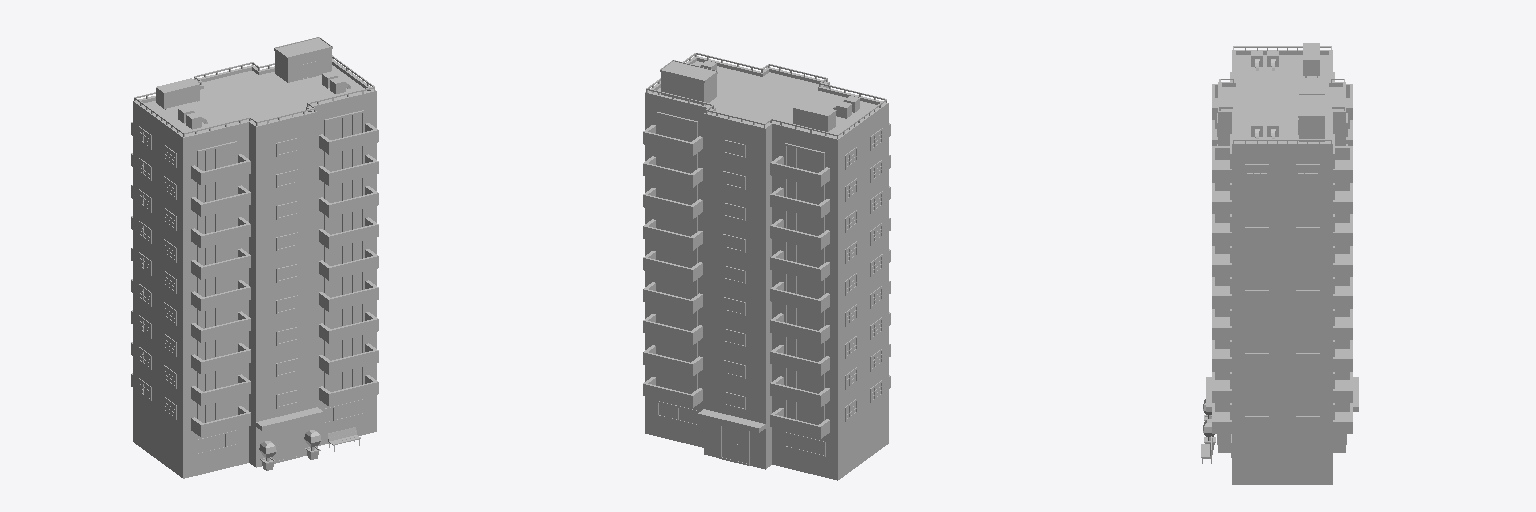
File: building.obj
3 views of the same model, side by side, from view 1: azimuth 30°, elevation 25°; view 2: azimuth 150°, elevation 25°; view 3: azimuth 270°, elevation 25° (orthographic).
Parts seen in each view (by area): view 1: Floor.001, Cube.003, Base; view 2: Floor.001, Cube.003, Base; view 3: Floor.001, Cube.003, Base.
Boxes of the visible parts, x1,y1,x2,y2 form: Floor.001: [131, 103, 378, 437]; Cube.003: [133, 37, 376, 149]; Base: [133, 395, 376, 478]; Floor.001: [643, 105, 890, 438]; Cube.003: [645, 53, 888, 151]; Base: [645, 397, 888, 480]; Floor.001: [1212, 72, 1352, 438]; Cube.003: [1218, 43, 1345, 155]; Base: [1206, 377, 1358, 484].
Bounding box in the file's own units: 4.57 × 8.16 × 3.21.